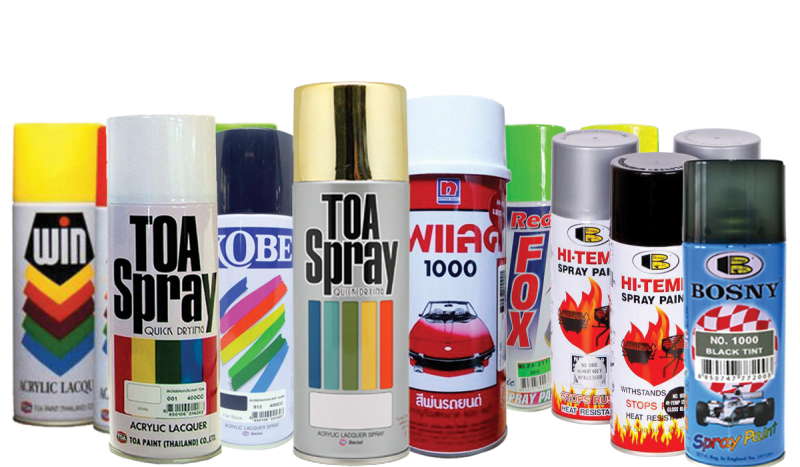Aerosol_cans: (288, 77, 411, 467), (106, 112, 224, 467), (402, 93, 511, 459), (679, 157, 789, 467), (11, 118, 97, 430), (215, 128, 293, 449)
